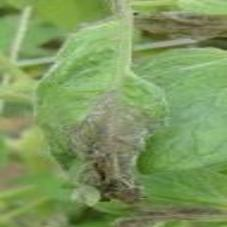Late Blight: (29, 15, 174, 210)
